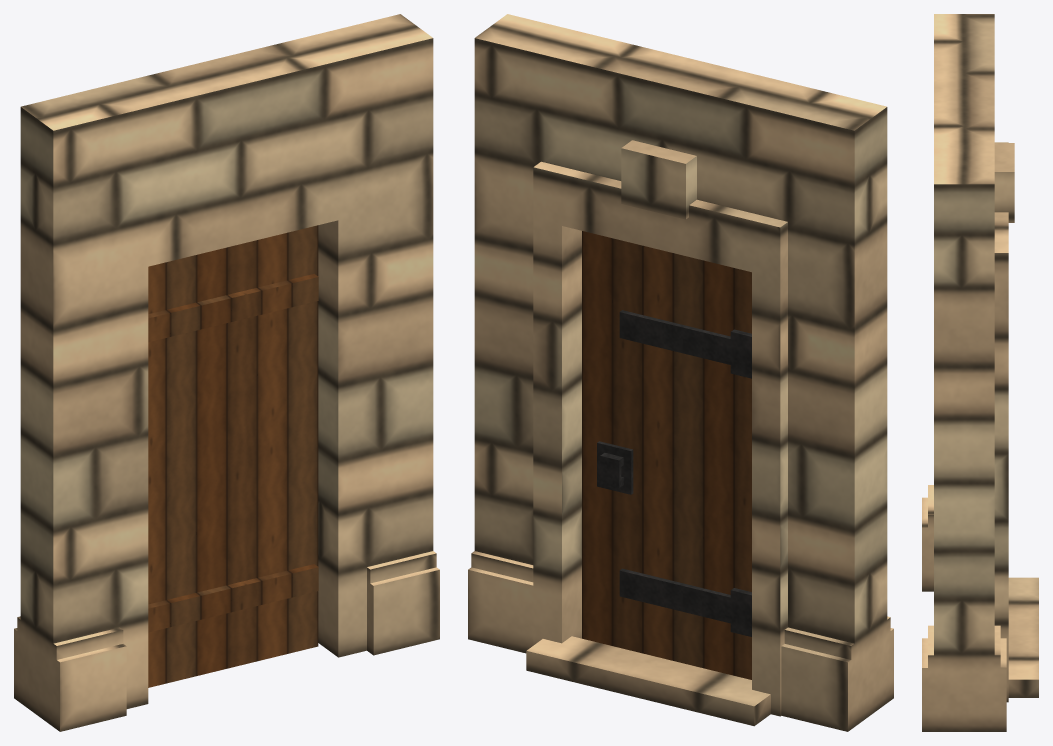
File: wall_stone_door_2x3.glb
The picture shows the model from 3 angles, left to right: view 1: azimuth 30°, elevation 25°; view 2: azimuth 150°, elevation 25°; view 3: azimuth 270°, elevation 25°; orthographic projection. The views are drawn at different scales.
Visible parts, largest first — view 1: wall_stone_door_2x3, door_leaf; view 2: wall_stone_door_2x3, door_leaf; view 3: wall_stone_door_2x3.
Part boxes in pixels (x1,y1,x2,y2): wall_stone_door_2x3: [14, 14, 439, 731]; door_leaf: [148, 225, 318, 687]; wall_stone_door_2x3: [468, 14, 893, 731]; door_leaf: [582, 231, 751, 679]; wall_stone_door_2x3: [922, 14, 1038, 731].
Size of the model in its own units: 2 by 3 by 0.58.
3 materials, 3 textured.
